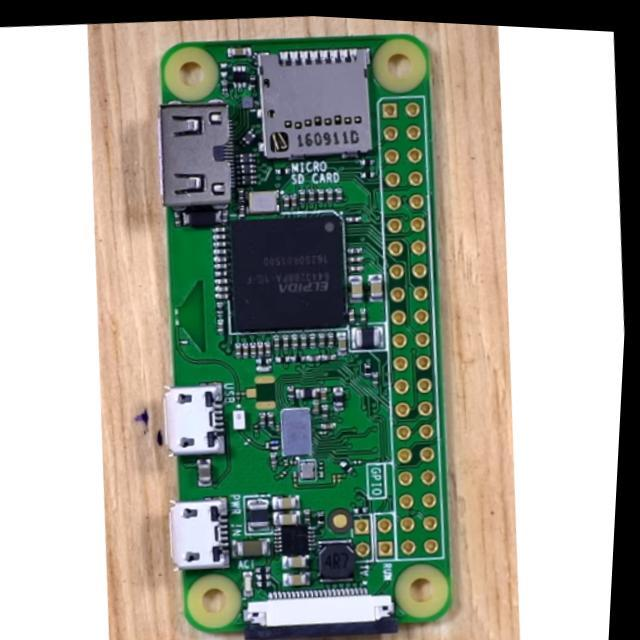Raspberry-Pi-Zero-W: (158, 34, 453, 640)
